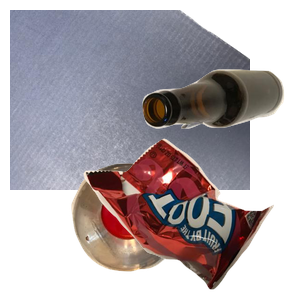cardboard: (10, 10, 250, 190)
glass: (140, 67, 300, 188)
plastic: (69, 161, 245, 300)
trash: (81, 136, 300, 300)
